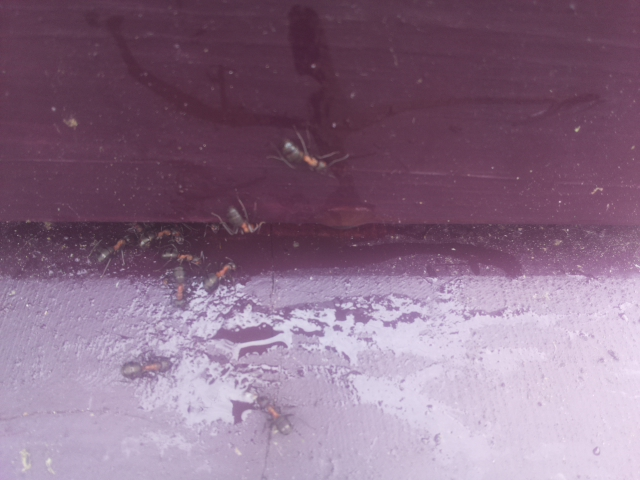ant: (238, 380, 301, 446), (273, 131, 334, 178), (85, 230, 143, 267), (111, 354, 181, 383), (196, 256, 242, 300), (219, 197, 263, 241), (157, 246, 206, 270)
